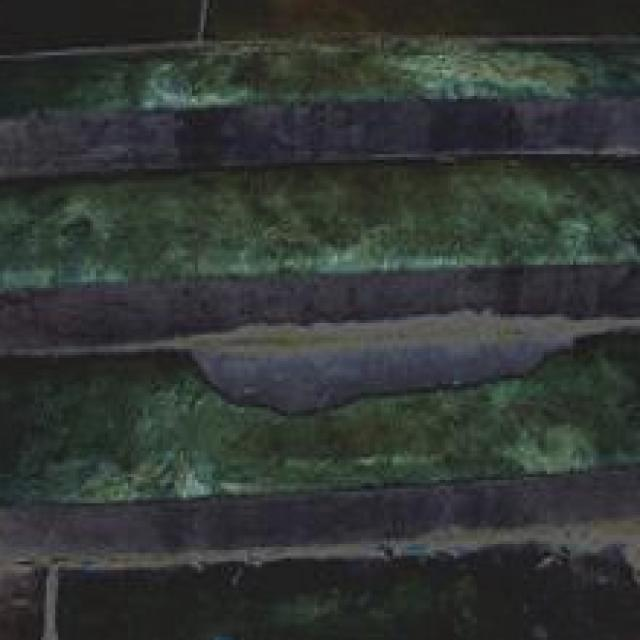upstair: (106, 284, 458, 598)
